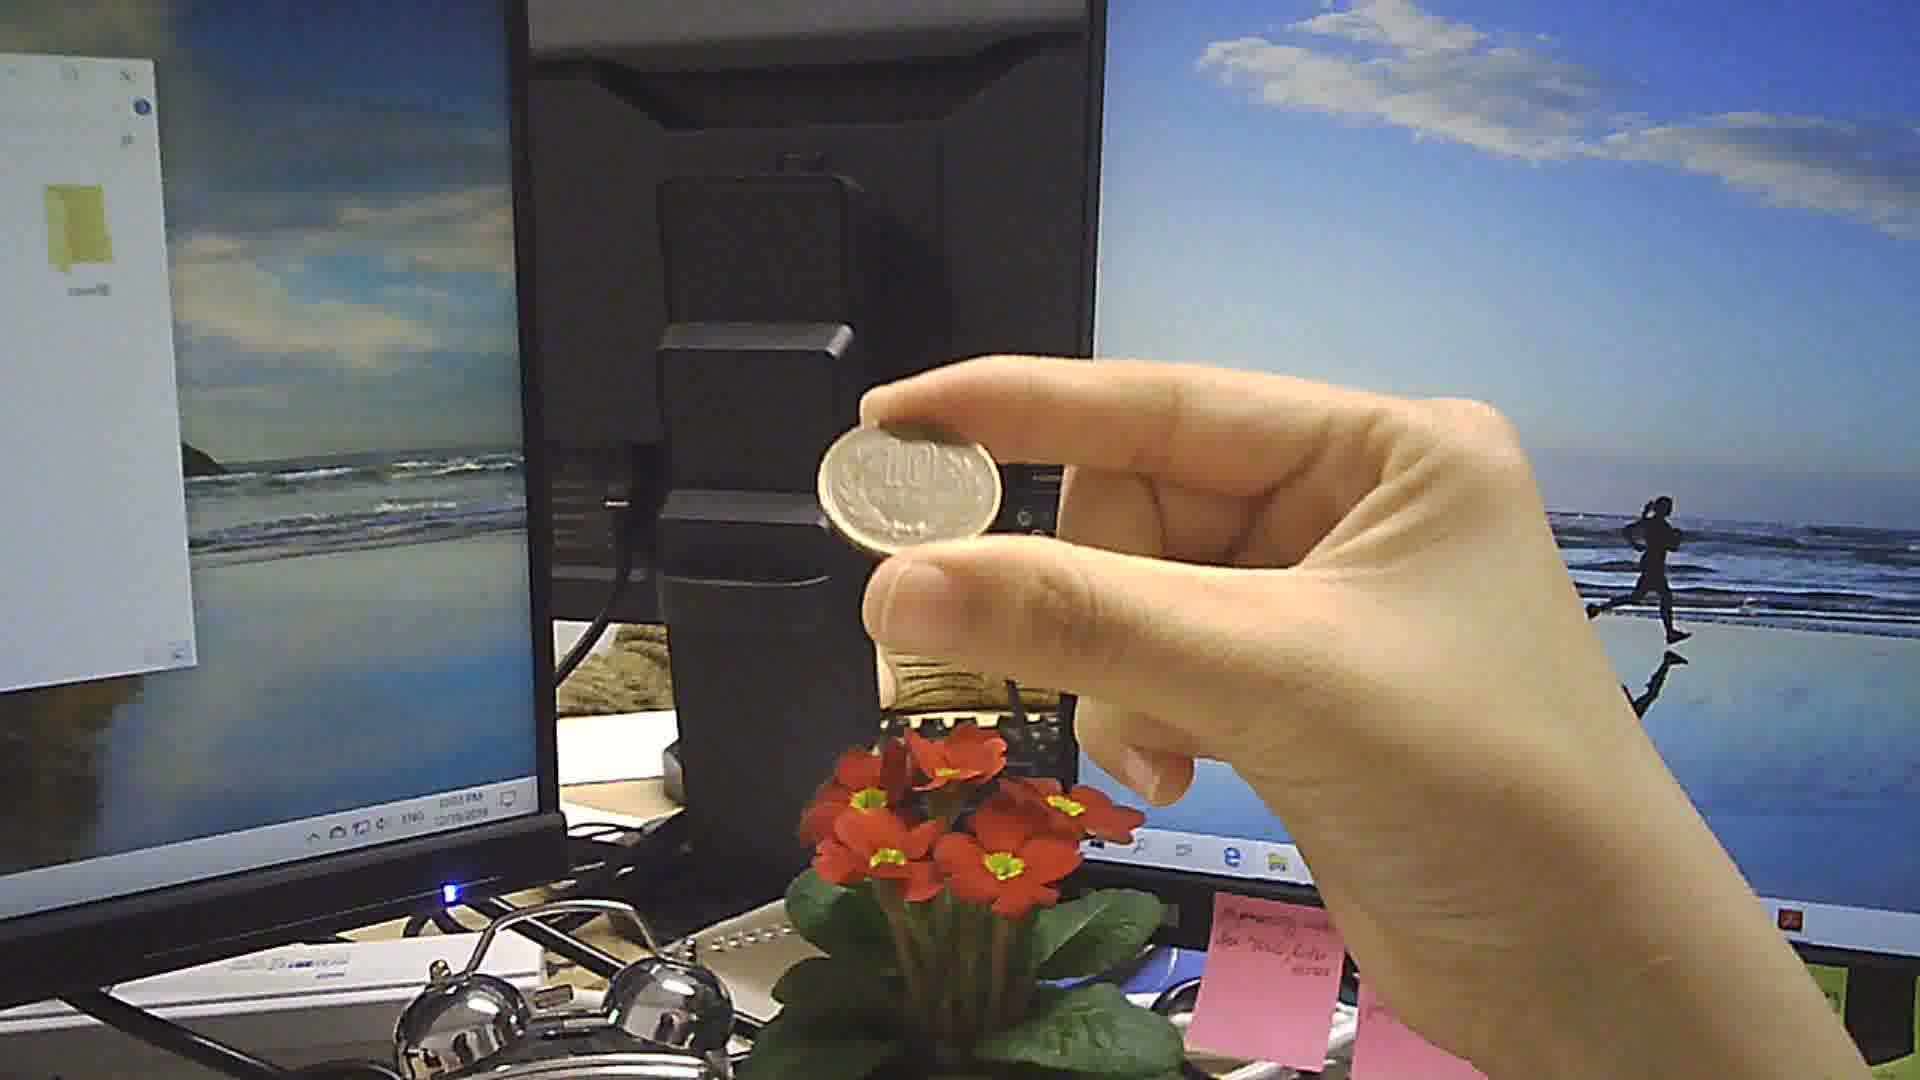10 Yen: (814, 406, 1002, 555)
